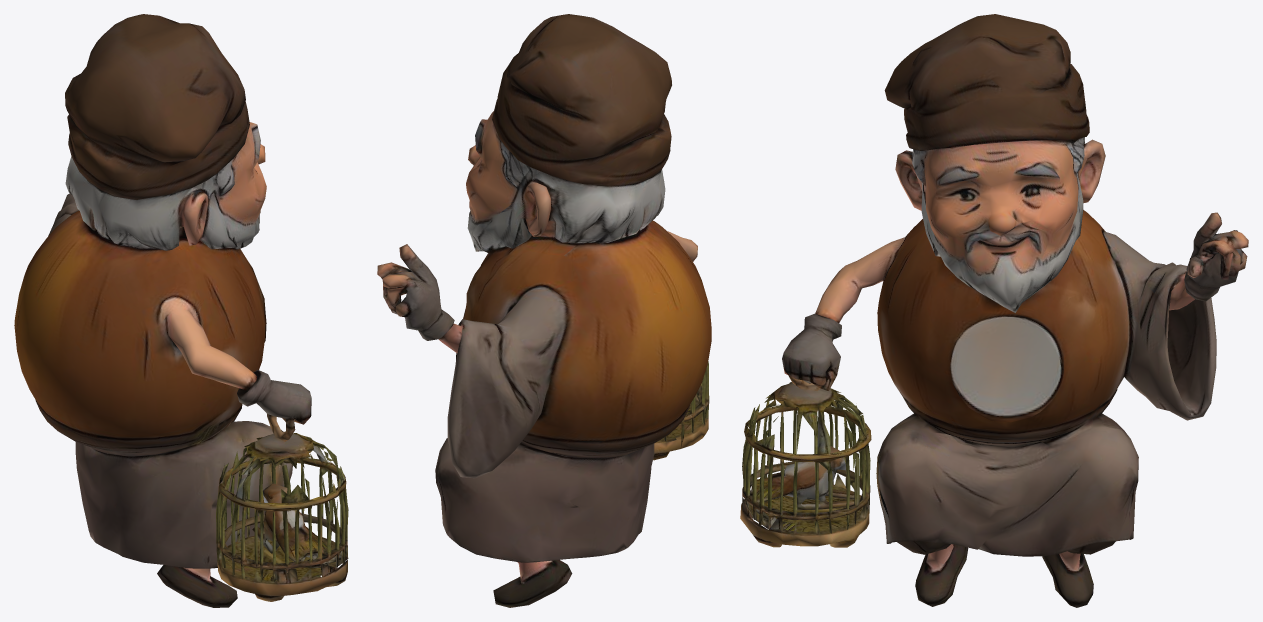
File: n_niao.glb
3 renders of one model, left to right at view 1: azimuth 30°, elevation 25°; view 2: azimuth 150°, elevation 25°; view 3: azimuth 270°, elevation 25°, orthographic.
Visible parts, largest first — view 1: tripo_node_4c928b29-8a22-42d0-9920-1796e06b0b09; view 2: tripo_node_4c928b29-8a22-42d0-9920-1796e06b0b09; view 3: tripo_node_4c928b29-8a22-42d0-9920-1796e06b0b09.
Boxes of the visible parts, box(x1,y1,x2,y2) form: tripo_node_4c928b29-8a22-42d0-9920-1796e06b0b09: box(14, 14, 348, 607); tripo_node_4c928b29-8a22-42d0-9920-1796e06b0b09: box(377, 14, 711, 607); tripo_node_4c928b29-8a22-42d0-9920-1796e06b0b09: box(740, 14, 1248, 607).
Bounding box in the file's own units: 0.4294 × 1 × 0.8155.
1 material, 1 textured.
